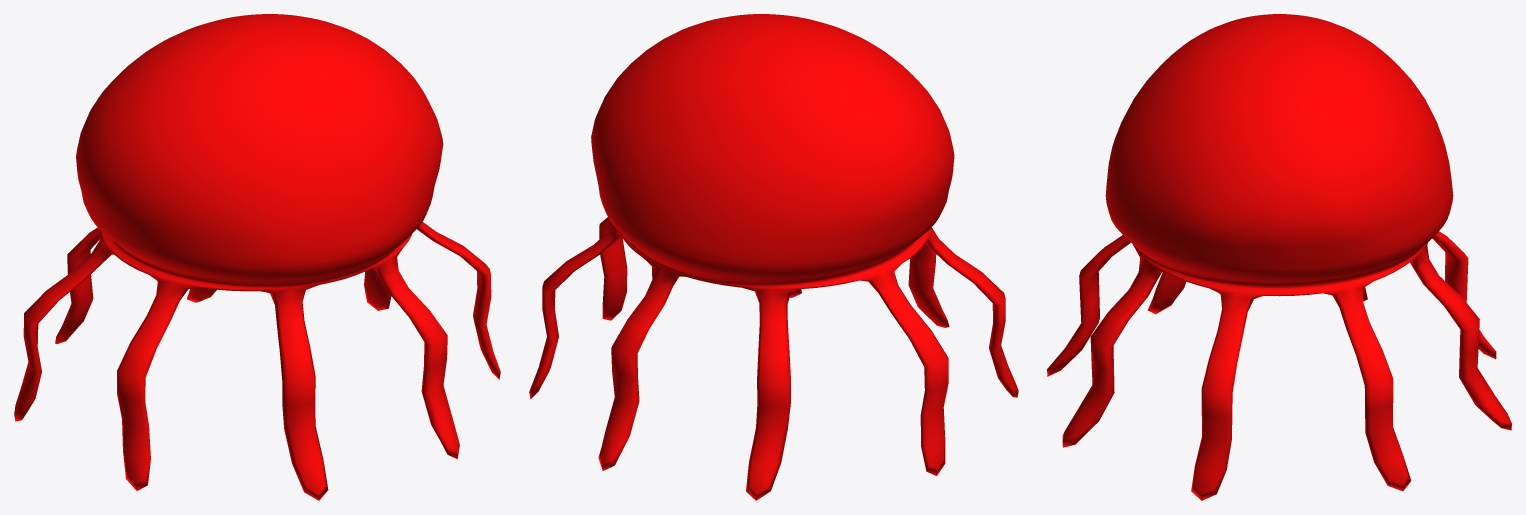
Rendered from kurage4.FBX.
The picture shows the model from 3 angles, left to right: view 1: azimuth 30°, elevation 25°; view 2: azimuth 150°, elevation 25°; view 3: azimuth 270°, elevation 25°; orthographic projection.
Visible parts, largest first — view 1: Sphere001; view 2: Sphere001; view 3: Sphere001.
Part boxes in pixels (x1,y1,x2,y2): Sphere001: (14, 14, 500, 500); Sphere001: (529, 14, 1018, 500); Sphere001: (1047, 14, 1511, 500).
Size of the model in its own units: 116 by 115 by 101.
Materials: 1 (1 with a texture image).
